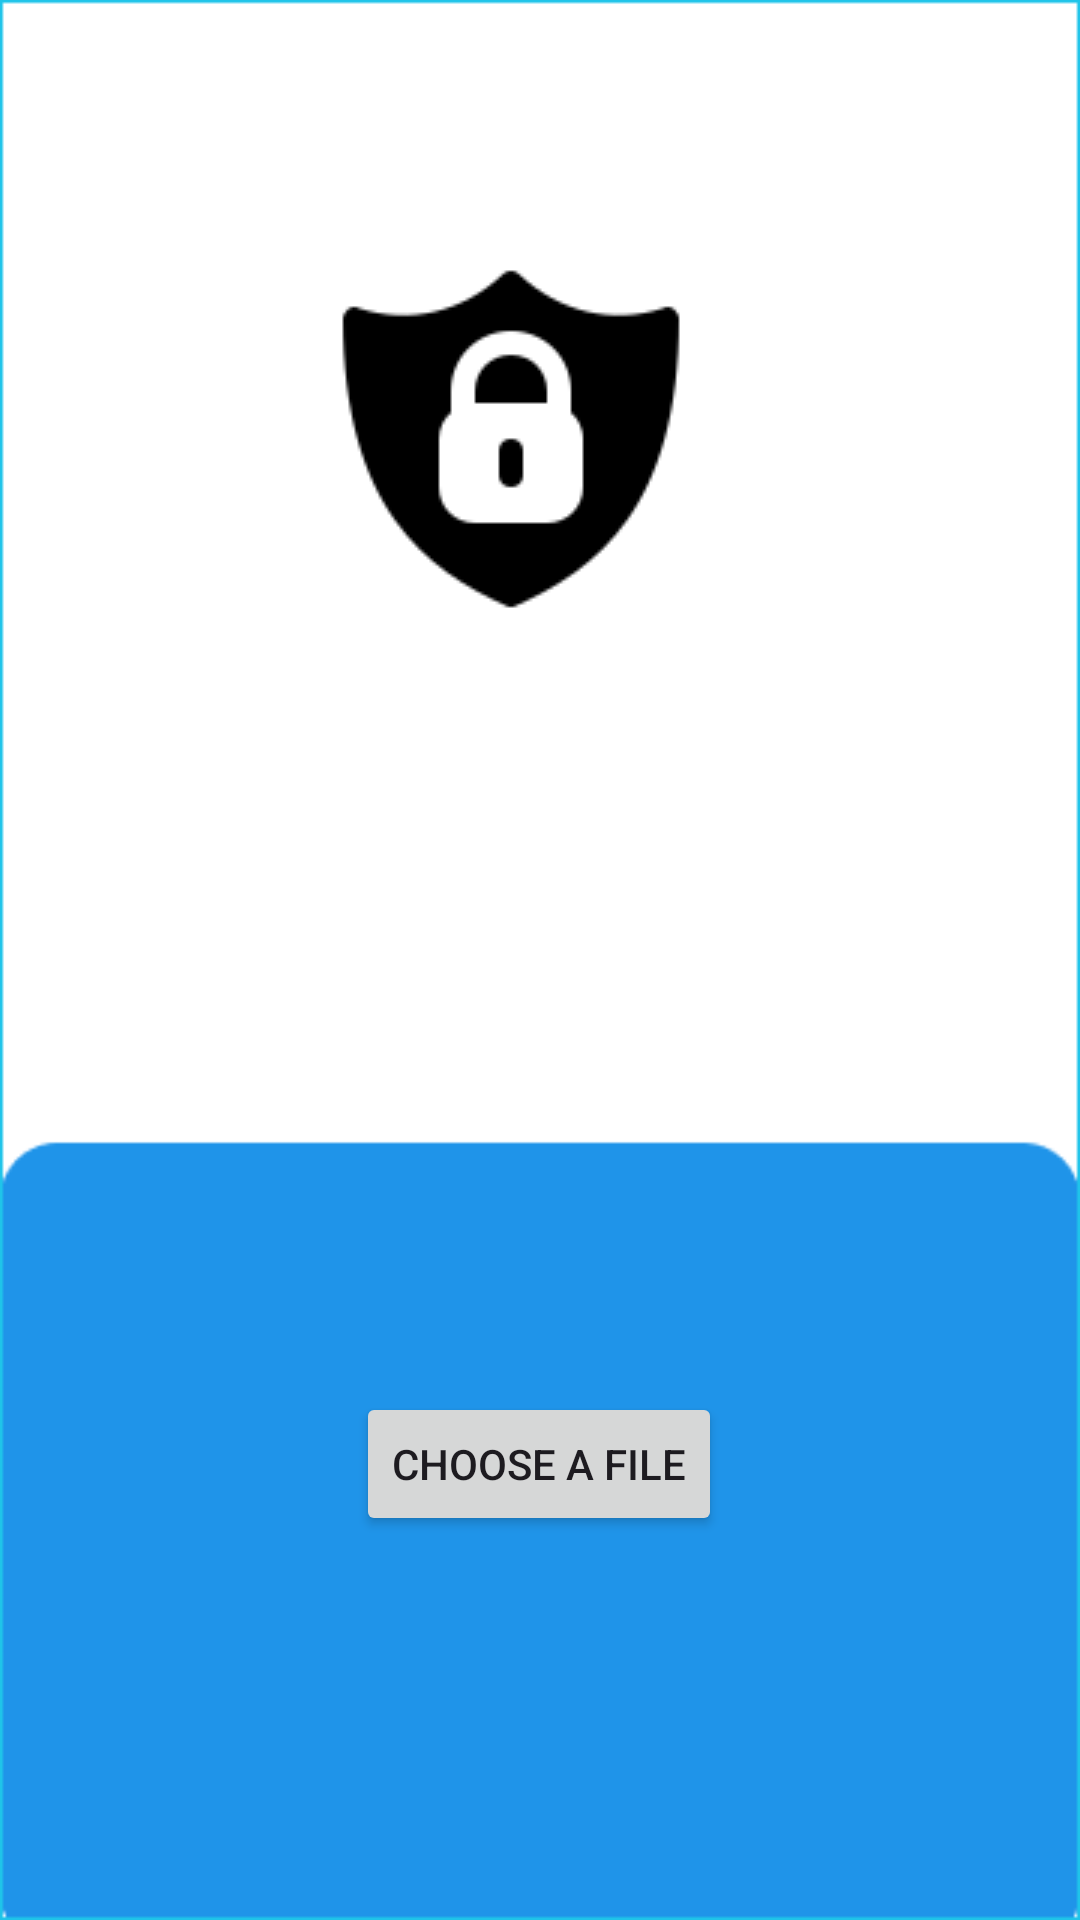

Point at icon controls on the screen. Image size 1080px x 1920px, points as point (x, y).
padlock: point (511, 439)
